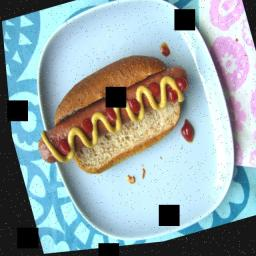hotdog: (18, 50, 204, 190)
